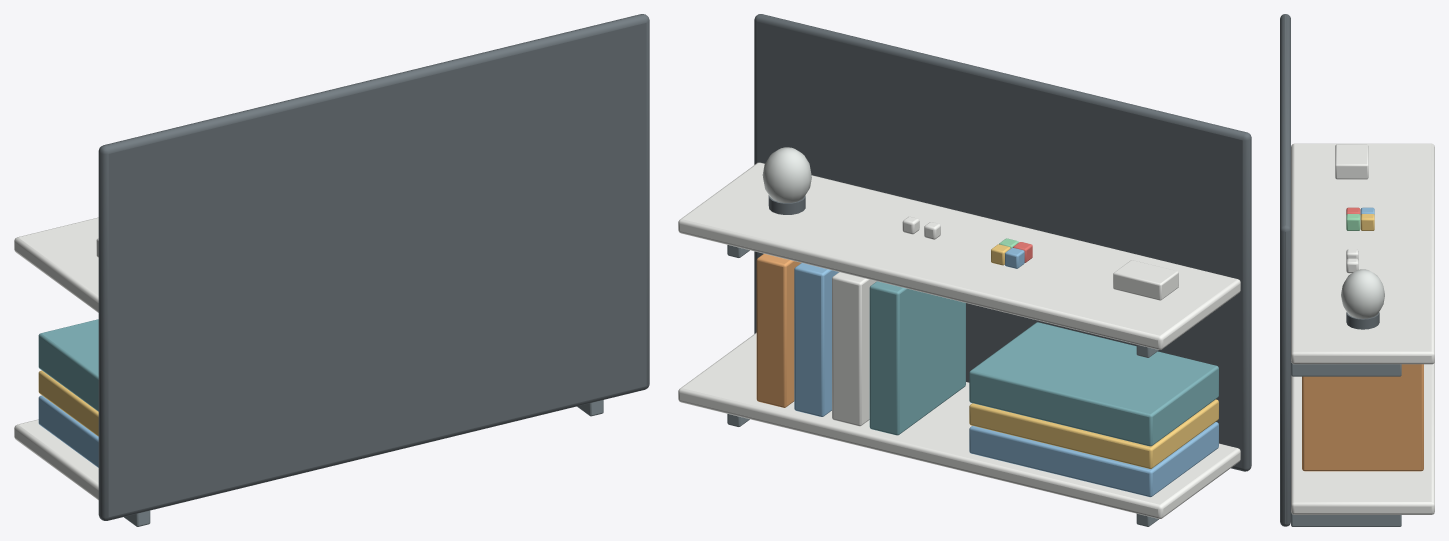
File: games_shelf.glb
3 renders of one model, left to right at view 1: azimuth 30°, elevation 25°; view 2: azimuth 150°, elevation 25°; view 3: azimuth 270°, elevation 25°, orthographic. The views are drawn at different scales.
Parts seen in each view (by area): view 1: back_plate_graphite, shelf_102_white_painted, game_2_game_box_teal, shelf_72_white_painted, game_0_game_box_cool_blue, game_1_game_box_amber; view 2: back_plate_graphite, shelf_102_white_painted, game_2_game_box_teal, shelf_72_white_painted, standing_0_game_box_teal, game_0_game_box_cool_blue, standing_3_orange, game_1_game_box_amber, standing_2_game_box_cool_blue, standing_1_white_painted, trophy_cup_satin_steel, cards_white_painted; view 3: shelf_102_white_painted, standing_3_orange, shelf_72_white_painted, back_plate_graphite, trophy_cup_satin_steel, brackets_102_dark_alloy, brackets_72_dark_alloy, cards_white_painted, trophy_base_graphite, dice_white_painted, cube_3_amber, cube_1_bright_green.
Boxes of the visible parts, x1,y1,x2,y2 form: back_plate_graphite: [98, 14, 649, 520]; shelf_102_white_painted: [14, 217, 98, 312]; game_2_game_box_teal: [38, 319, 98, 411]; shelf_72_white_painted: [14, 419, 98, 499]; game_0_game_box_cool_blue: [38, 395, 98, 467]; game_1_game_box_amber: [38, 370, 98, 436]; back_plate_graphite: [754, 14, 1251, 471]; shelf_102_white_painted: [678, 162, 1240, 349]; game_2_game_box_teal: [969, 322, 1218, 446]; shelf_72_white_painted: [678, 332, 1240, 518]; standing_0_game_box_teal: [869, 281, 965, 435]; game_0_game_box_cool_blue: [969, 422, 1218, 497]; standing_3_orange: [756, 254, 800, 407]; game_1_game_box_amber: [969, 399, 1218, 468]; standing_2_game_box_cool_blue: [794, 263, 838, 416]; standing_1_white_painted: [832, 272, 876, 426]; trophy_cup_satin_steel: [762, 147, 811, 202]; cards_white_painted: [1113, 260, 1178, 300]; shelf_102_white_painted: [1291, 143, 1434, 364]; standing_3_orange: [1302, 364, 1423, 471]; shelf_72_white_painted: [1291, 362, 1434, 514]; back_plate_graphite: [1280, 14, 1290, 526]; trophy_cup_satin_steel: [1341, 269, 1384, 318]; brackets_102_dark_alloy: [1291, 361, 1401, 376]; brackets_72_dark_alloy: [1291, 512, 1401, 526]; cards_white_painted: [1335, 144, 1368, 179]; trophy_base_graphite: [1346, 312, 1379, 329]; dice_white_painted: [1346, 249, 1358, 273]; cube_3_amber: [1360, 214, 1374, 230]; cube_1_bright_green: [1346, 214, 1360, 230].
Bounding box in the file's own units: 0.92 × 0.63 × 0.28.
